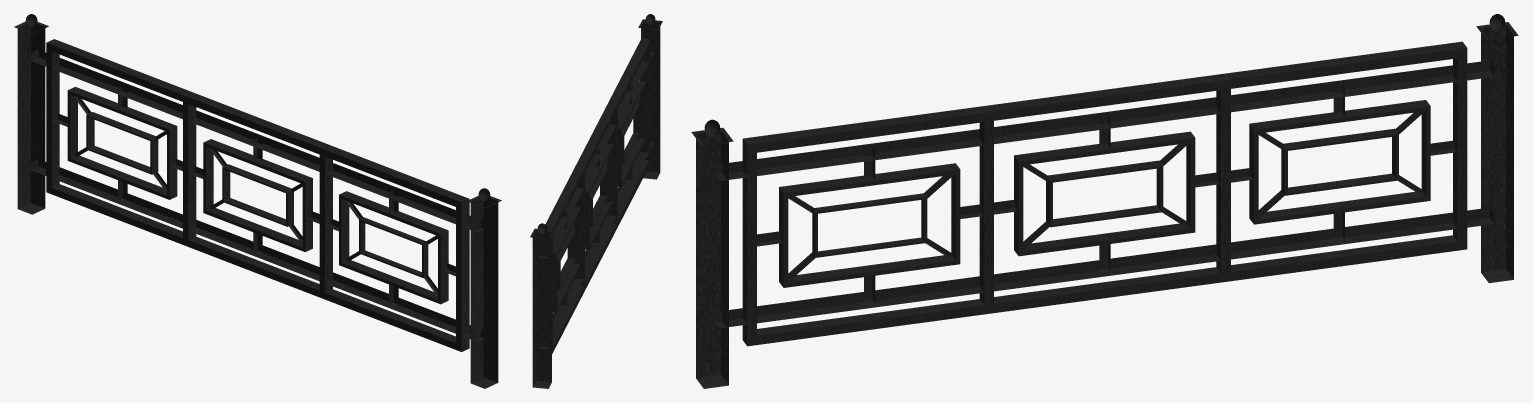
The model's file is fence.fbx.
The picture shows the model from 3 angles, left to right: view 1: azimuth 30°, elevation 25°; view 2: azimuth 150°, elevation 25°; view 3: azimuth 270°, elevation 25°; orthographic projection. The views are drawn at different scales.
Parts seen in each view (by area): view 1: Куб.016; view 2: Куб.016; view 3: Куб.016.
Boxes of the visible parts, x1,y1,x2,y2 form: Куб.016: (14, 14, 501, 388); Куб.016: (530, 14, 662, 388); Куб.016: (691, 14, 1518, 388).
Bounding box in the file's own units: 119 × 117 × 337.
